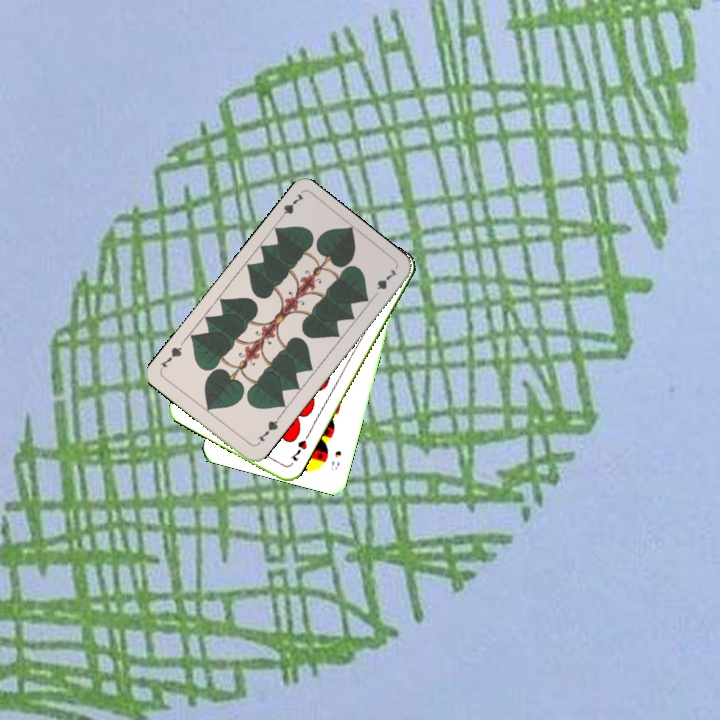G7: (273, 189, 306, 224), (254, 414, 282, 444)
H7: (286, 431, 312, 464)
S8: (327, 446, 344, 473)
